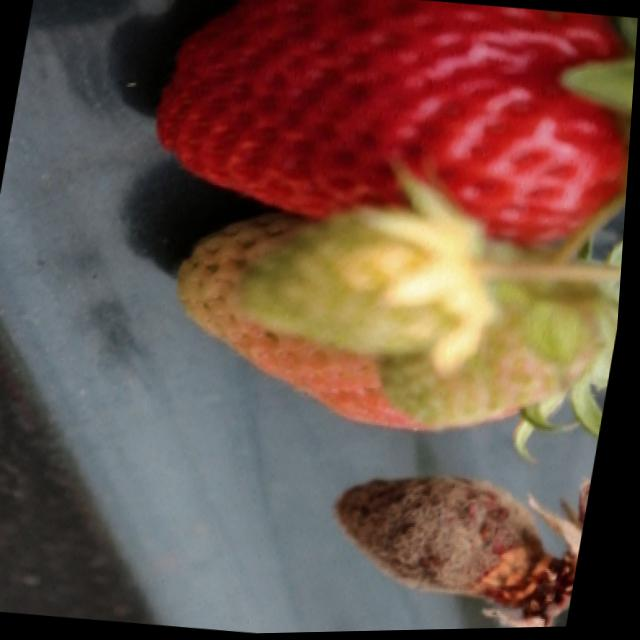Gray Mold: (339, 477, 597, 630)
